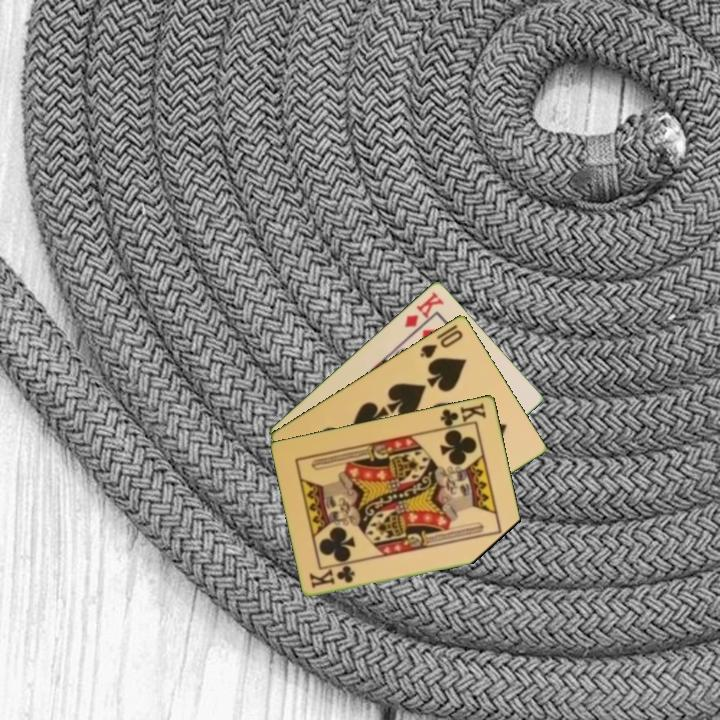10s: (416, 326, 466, 361)
Kc: (436, 399, 489, 432), (306, 563, 358, 591)
Kd: (401, 288, 447, 330)
